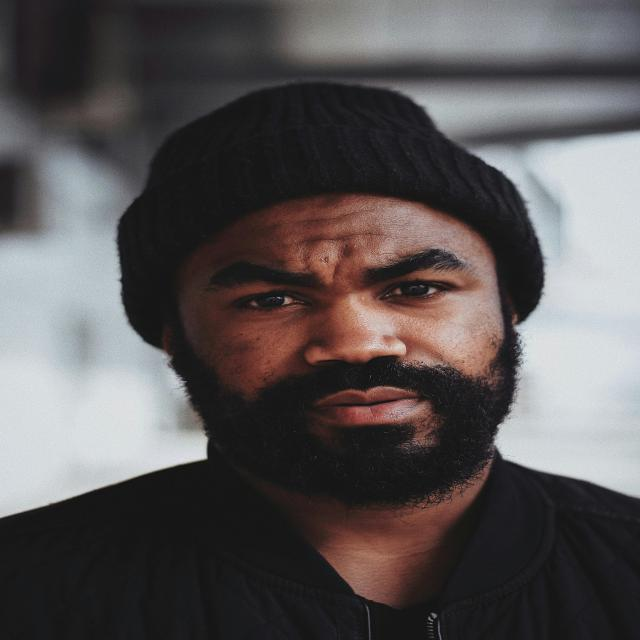human: (4, 77, 639, 640)
